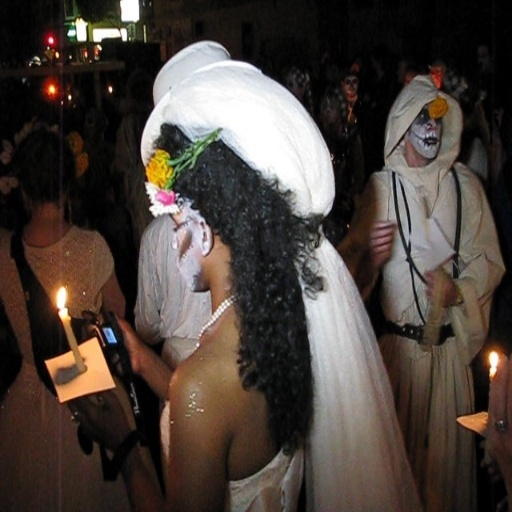hand: (70, 387, 131, 456), (92, 310, 145, 377), (361, 217, 396, 268), (425, 265, 459, 310)
